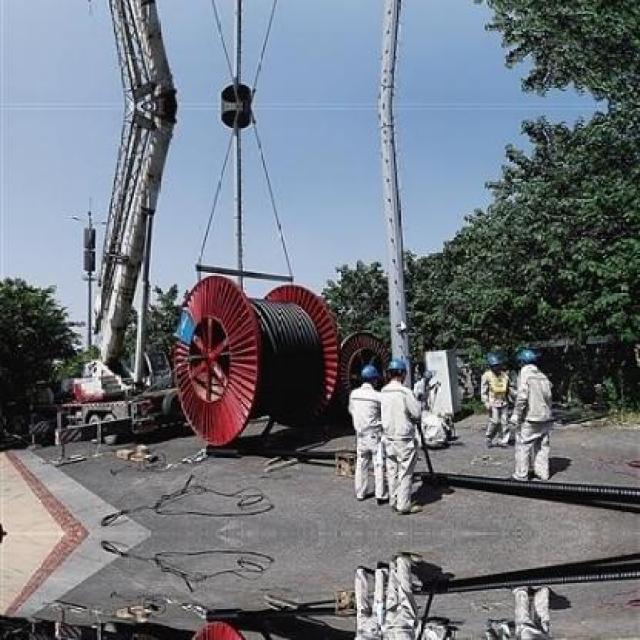helmet: (385, 356, 406, 384), (354, 364, 378, 387), (518, 346, 537, 371), (486, 355, 502, 374)
